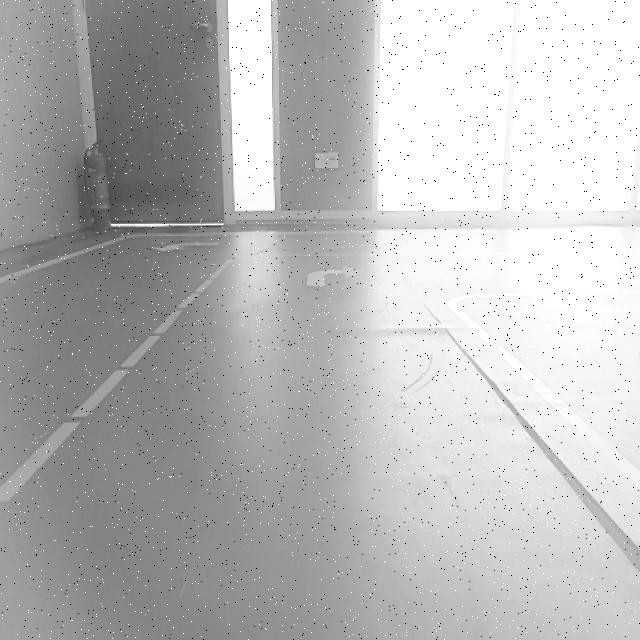left_lane: (1, 257, 231, 510)
right_lane: (451, 306, 640, 507)
